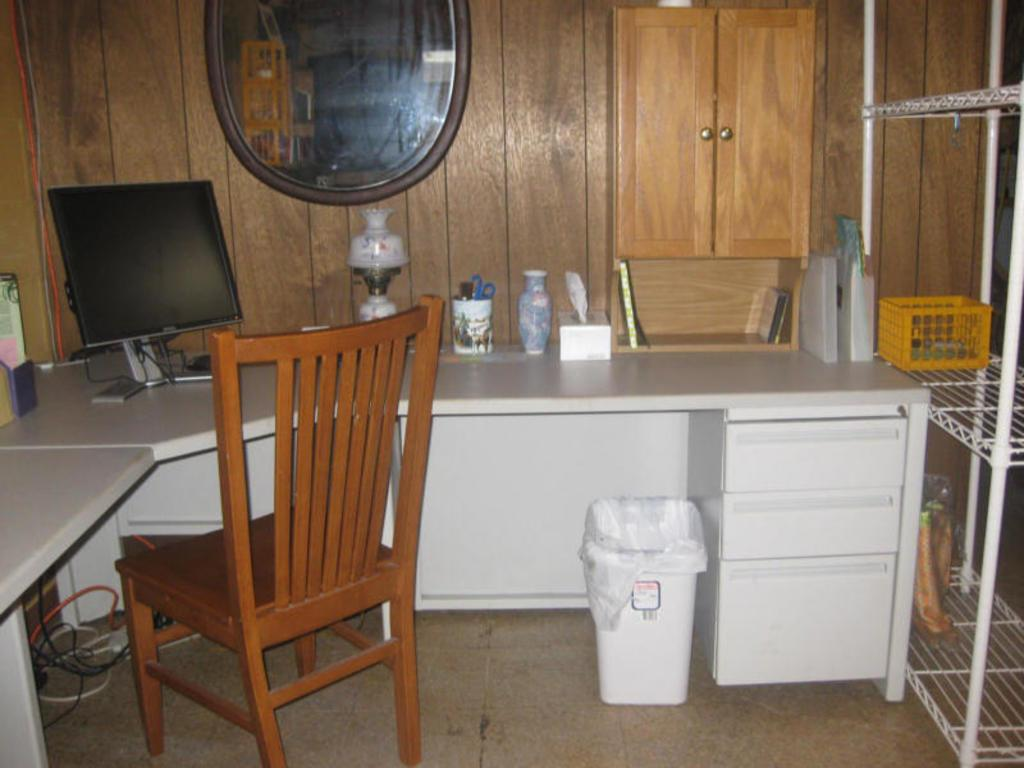cabinet_door: (622, 9, 710, 246), (722, 13, 808, 250), (732, 559, 894, 672), (732, 426, 902, 486), (732, 496, 894, 551)
handle: (728, 492, 898, 520), (732, 558, 889, 584), (737, 428, 892, 452), (719, 118, 732, 144), (702, 118, 714, 143)
